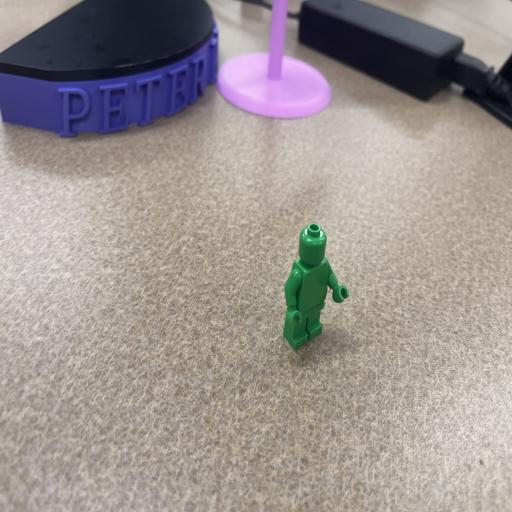Lego-Minifig: (283, 223, 348, 349)
